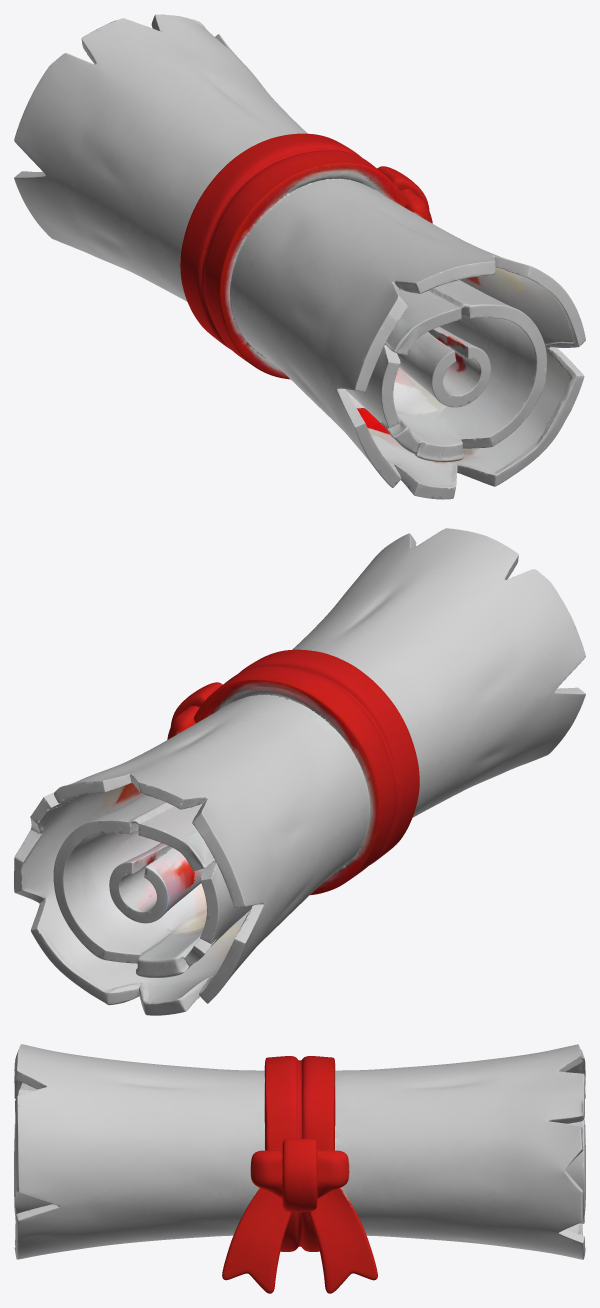
The model's file is Recipe.fbx.
The picture shows the model from 3 angles, top to bottom: view 1: azimuth 30°, elevation 25°; view 2: azimuth 150°, elevation 25°; view 3: azimuth 270°, elevation 25°; orthographic projection. The views are drawn at different scales.
Visible parts, largest first — view 1: tripo_node_af7ba290; view 2: tripo_node_af7ba290; view 3: tripo_node_af7ba290.
Boxes of the visible parts, box(x1,y1,x2,y2) form: tripo_node_af7ba290: box(14, 14, 585, 499); tripo_node_af7ba290: box(14, 528, 585, 1015); tripo_node_af7ba290: box(14, 1044, 585, 1293).
Bounding box in the file's own units: 41.15 × 37.24 × 100.
Materials: 1 (1 with a texture image).
